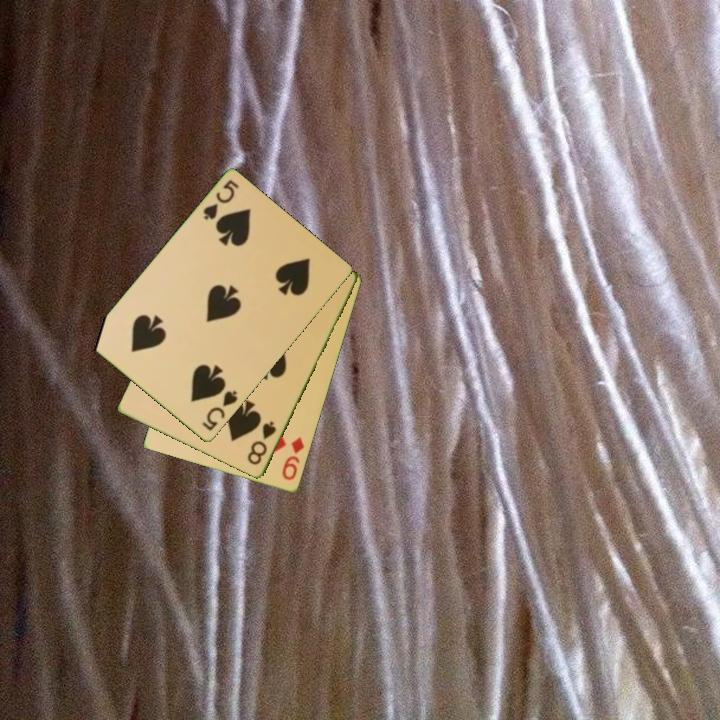5s: (199, 176, 242, 224), (199, 387, 241, 434)
8s: (244, 418, 279, 468)
9d: (279, 433, 307, 484)
